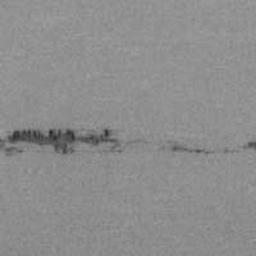Inclusion: (0, 128, 120, 155), (171, 145, 188, 151), (246, 141, 256, 149)
